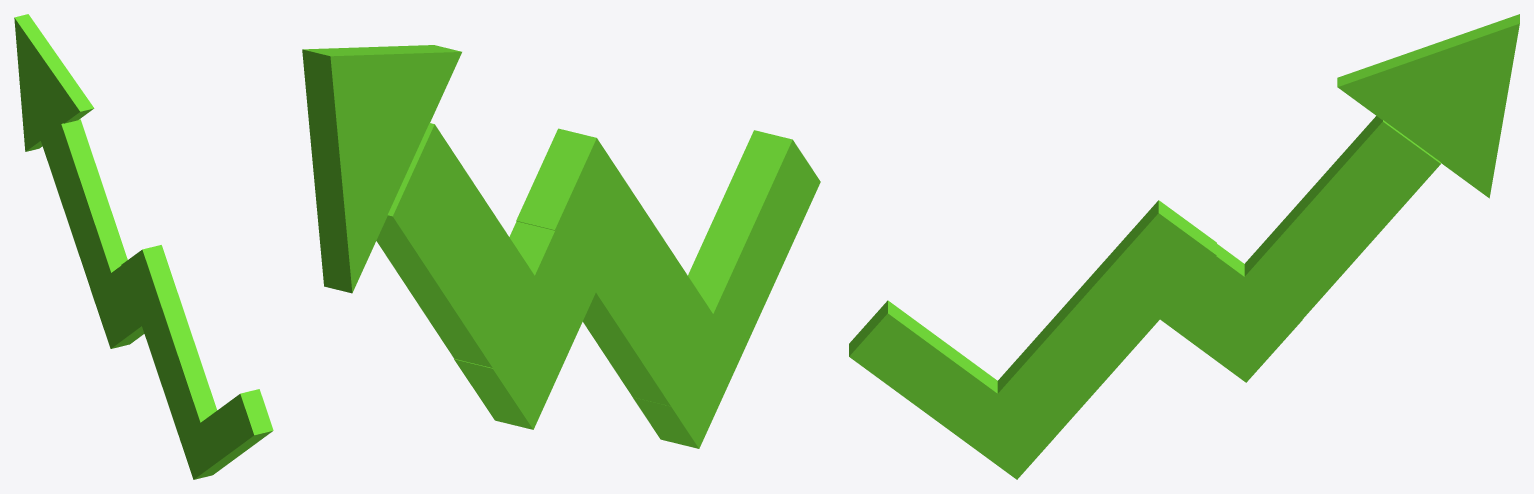
File: Stock.fbx
3 views of the same model, side by side, from view 1: azimuth 30°, elevation 25°; view 2: azimuth 150°, elevation 25°; view 3: azimuth 270°, elevation 25° (orthographic). The views are drawn at different scales.
Parts seen in each view (by area): view 1: Cube.002; view 2: Cube.002; view 3: Cube.002.
Boxes of the visible parts, x1,y1,x2,y2 form: Cube.002: (14,14,273,479); Cube.002: (302,45,820,448); Cube.002: (849,14,1519,479).
Size of the model in its own units: 0.2 by 3.25 by 4.35.
